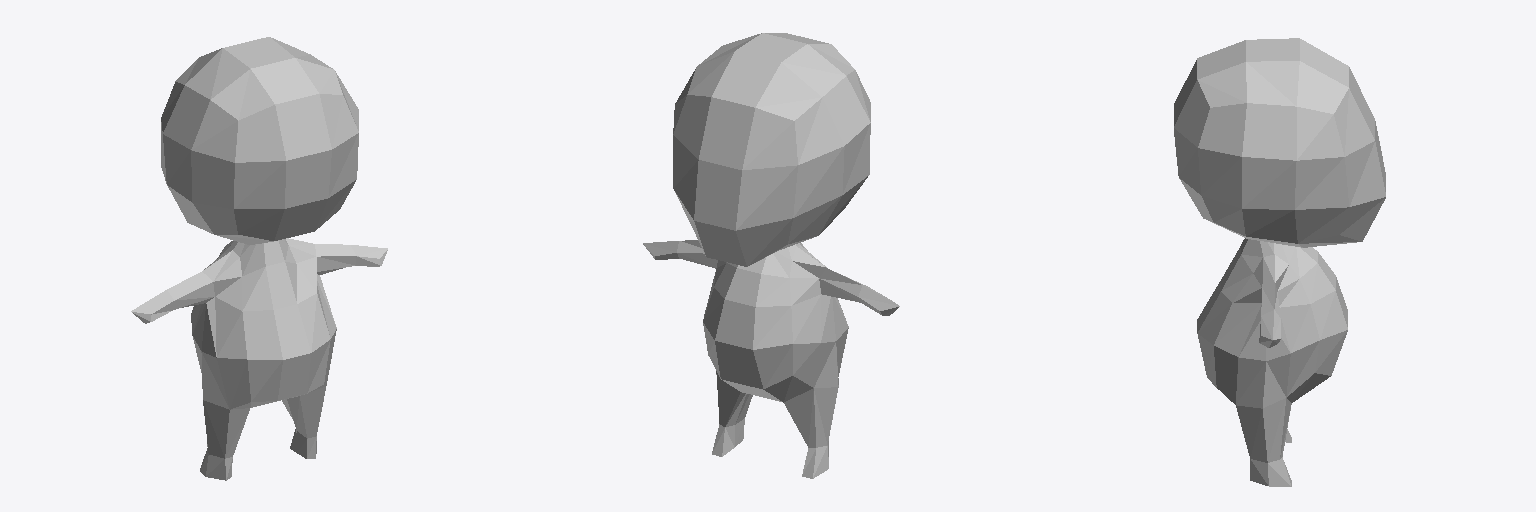
Rendered from libee.obj.
3 renders of one model, left to right at view 1: azimuth 30°, elevation 25°; view 2: azimuth 150°, elevation 25°; view 3: azimuth 270°, elevation 25°, orthographic.
Visible parts, largest first — view 1: pCube1, pCube2; view 2: pCube1, pCube2; view 3: pCube1, pCube2.
Boxes of the visible parts, box(x1,y1,x2,y2) form: pCube1: box(161, 37, 358, 244); pCube2: box(131, 238, 387, 480); pCube1: box(673, 33, 870, 266); pCube2: box(643, 240, 899, 478); pCube1: box(1174, 38, 1385, 247); pCube2: box(1197, 238, 1347, 486).
Size of the model in its own units: 1.96 by 2.99 by 1.4.